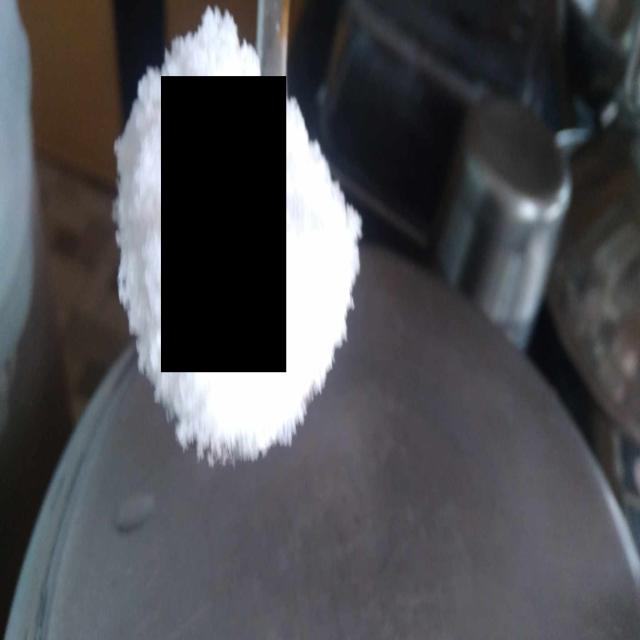Salt: (161, 76, 286, 372)
